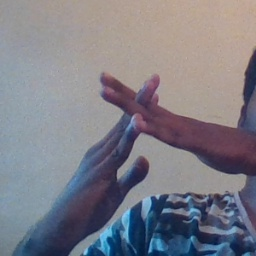W: (76, 57, 195, 205)
